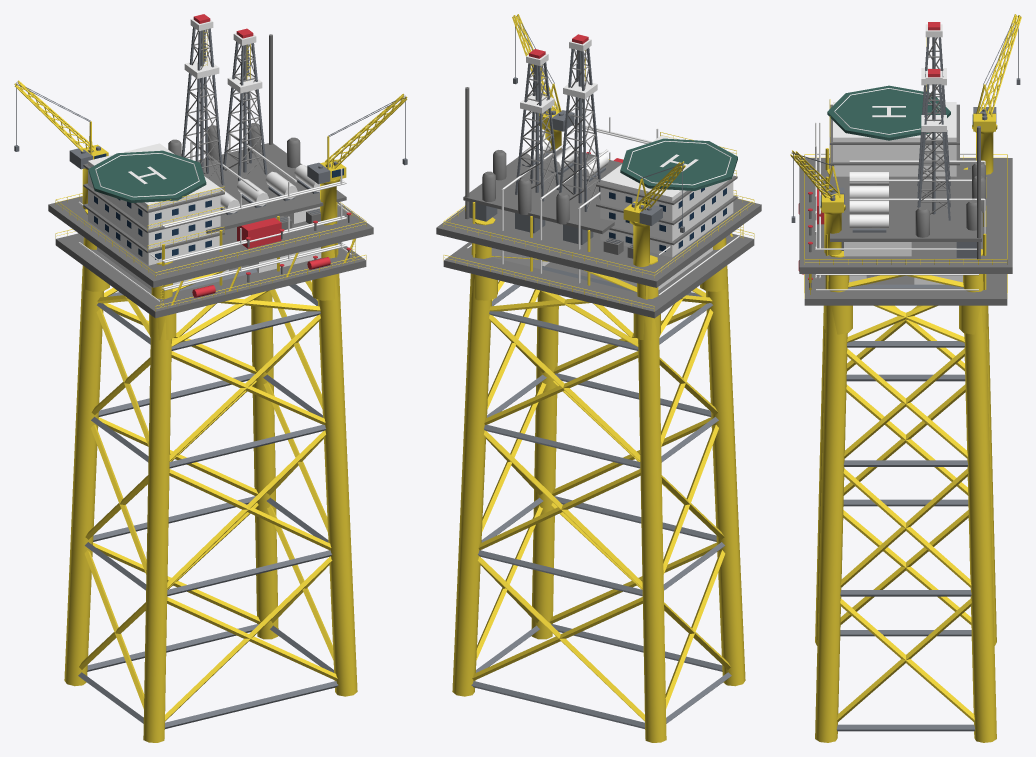
File: top-prebuilt_close.fbx
The picture shows the model from 3 angles, left to right: view 1: azimuth 30°, elevation 25°; view 2: azimuth 150°, elevation 25°; view 3: azimuth 270°, elevation 25°; orthographic projection.
Visible parts, largest first — view 1: a1072/0/top-prebuilt_close; view 2: a1072/0/top-prebuilt_close; view 3: a1072/0/top-prebuilt_close.
Boxes of the visible parts, box(x1,y1,x2,y2) form: a1072/0/top-prebuilt_close: box(14, 14, 407, 742); a1072/0/top-prebuilt_close: box(436, 14, 761, 742); a1072/0/top-prebuilt_close: box(790, 14, 1021, 742).
Bounding box in the file's own units: 59.09 × 131 × 41.26.
